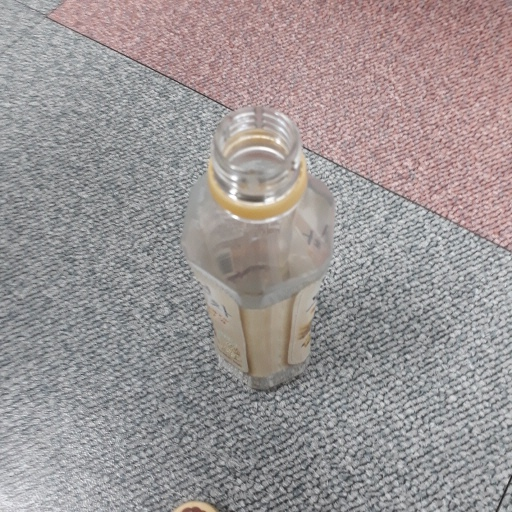Plastic_0: (181, 108, 336, 397)
